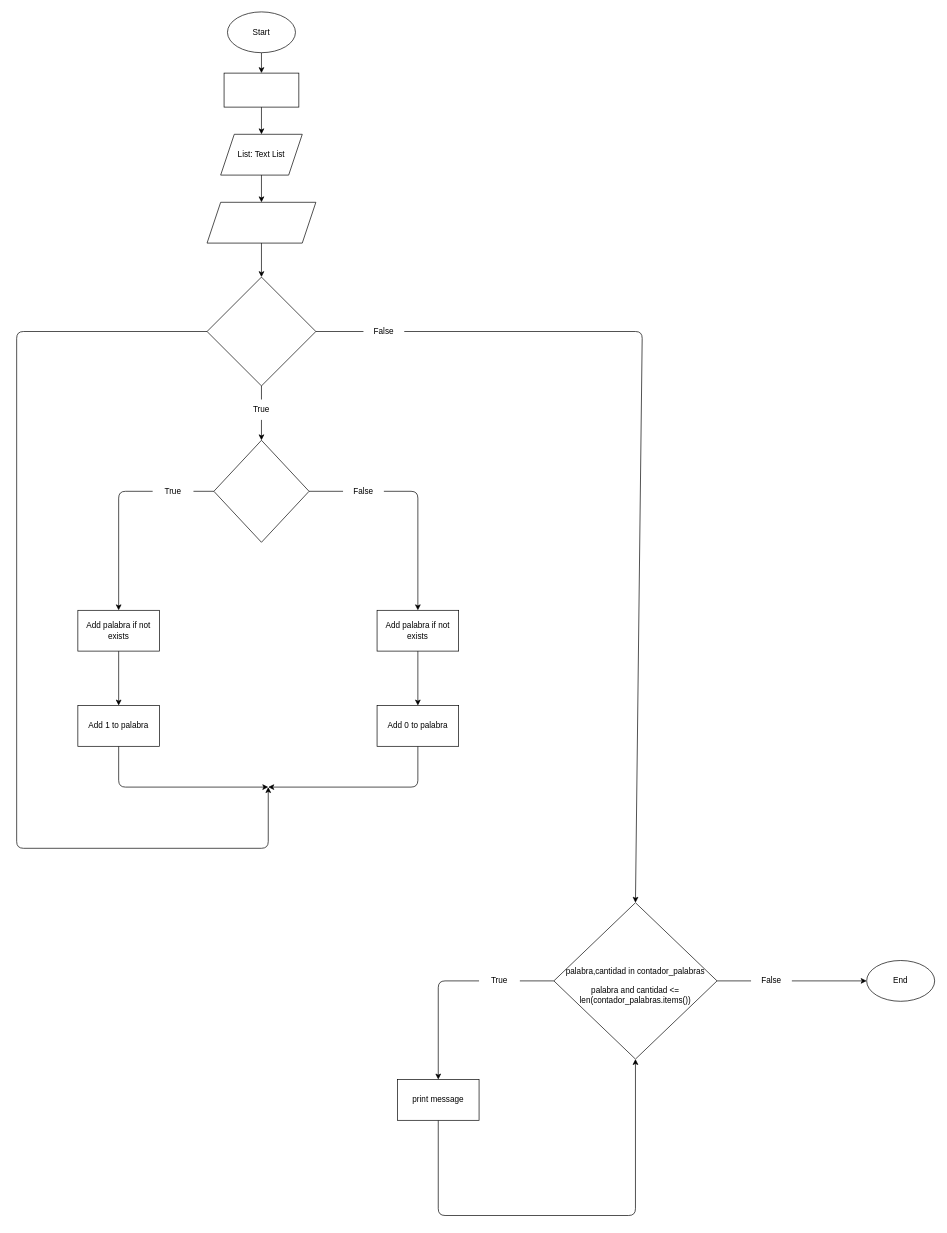
The diagram is 947 pixels wide and 1233 high, and some of its shapes have lost their labels. Here are the shapes that lost their labels. From the top down, the centre of each, then its label:
At (261,89): "text Split()".
At (261,222): "Dict: Contador Palabras".
At (261,331): "palabra in text_List palabra <= len(text_list)".
At (261,491): "is palabra in contador_palabras?".
